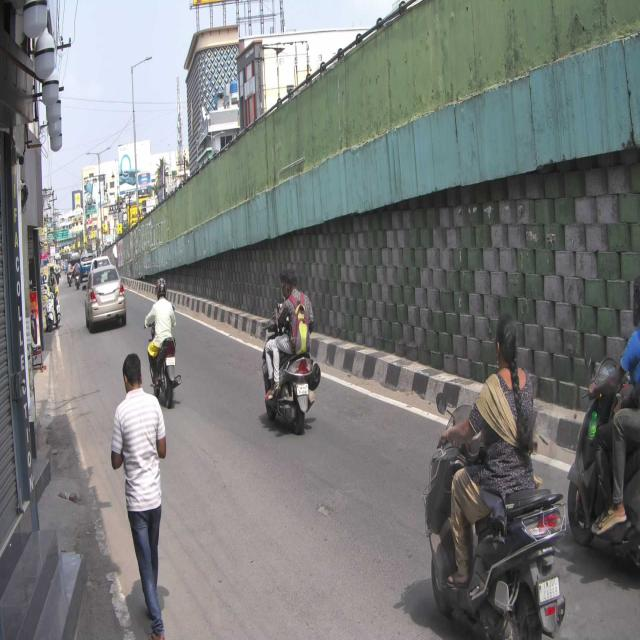single_rider: (425, 309, 566, 640)
